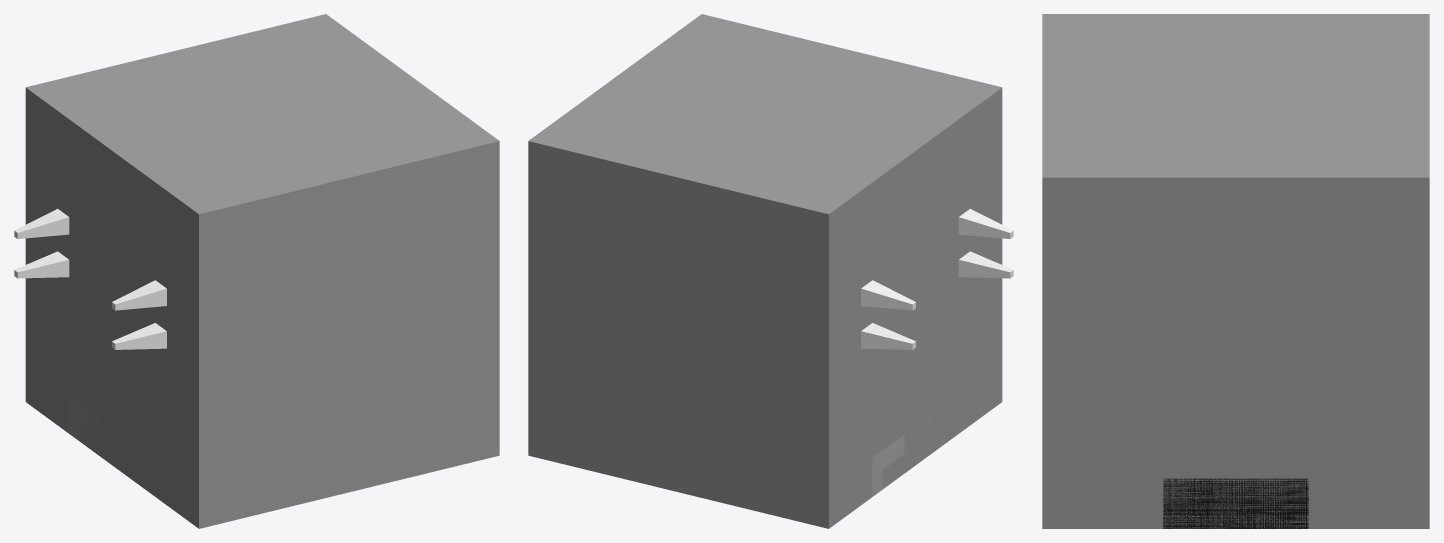
Rendered from Turret.obj.
3 renders of one model, left to right at view 1: azimuth 30°, elevation 25°; view 2: azimuth 150°, elevation 25°; view 3: azimuth 270°, elevation 25°, orthographic. The views are drawn at different scales.
Parts seen in each view (by area): view 1: Minecraft_Block.001_Cube.002, Fire, Holder; view 2: Minecraft_Block.001_Cube.002, Fire, Holder; view 3: Minecraft_Block.001_Cube.002, Holder.
Part boxes in pixels (x1=…): Minecraft_Block.001_Cube.002: x1=25, y1=14, x2=499, y2=528; Fire: x1=14, y1=208, x2=166, y2=349; Holder: x1=69, y1=395, x2=101, y2=441; Minecraft_Block.001_Cube.002: x1=528, y1=14, x2=1002, y2=528; Fire: x1=861, y1=208, x2=1013, y2=349; Holder: x1=872, y1=413, x2=934, y2=496; Minecraft_Block.001_Cube.002: x1=1042, y1=14, x2=1429, y2=528; Holder: x1=1163, y1=478, x2=1308, y2=528.
Size of the model in its own units: 1.16 by 1 by 1.
Materials: 2 (1 with a texture image).
